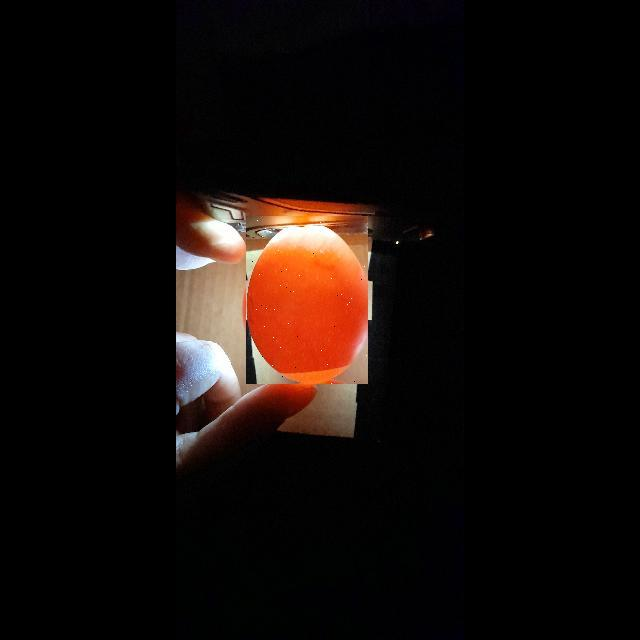Fertile: (246, 216, 368, 384)
